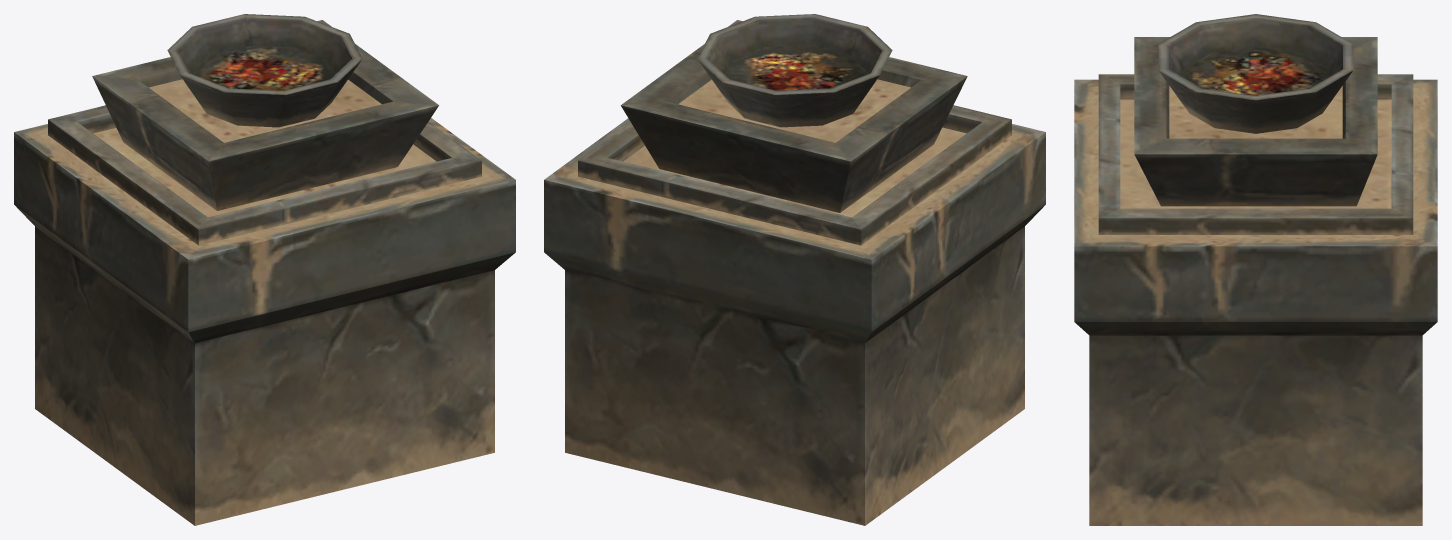
Rendered from Other_5.FBX.
3 views of the same model, side by side, from view 1: azimuth 30°, elevation 25°; view 2: azimuth 150°, elevation 25°; view 3: azimuth 270°, elevation 25° (orthographic). The views are drawn at different scales.
Parts seen in each view (by area): view 1: Other_5; view 2: Other_5; view 3: Other_5.
Part boxes in pixels (x1,y1,x2,y2): Other_5: [14, 14, 515, 525]; Other_5: [544, 14, 1045, 525]; Other_5: [1074, 14, 1437, 525].
Size of the model in its own units: 106 by 117 by 98.19.
